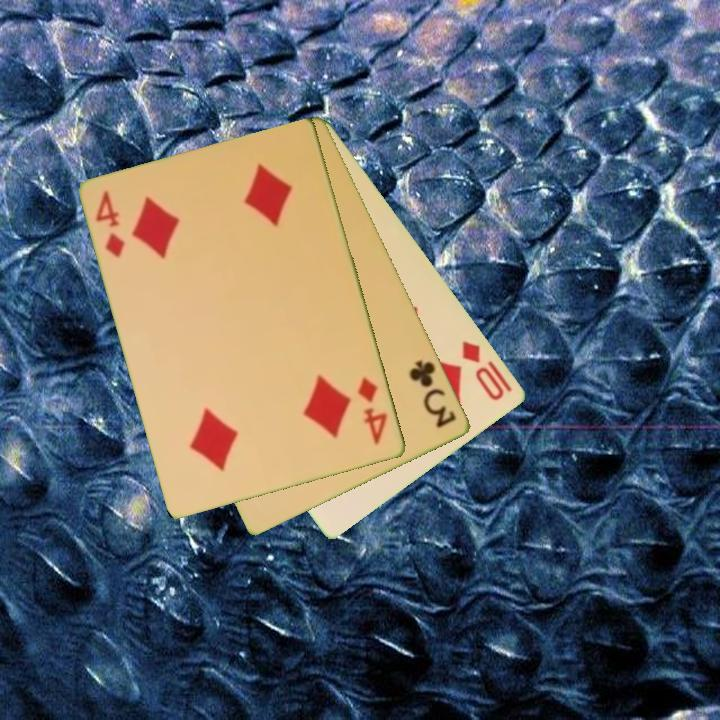10d: (458, 337, 508, 404)
3c: (406, 356, 460, 431)
4d: (354, 374, 391, 448), (92, 187, 129, 261)
